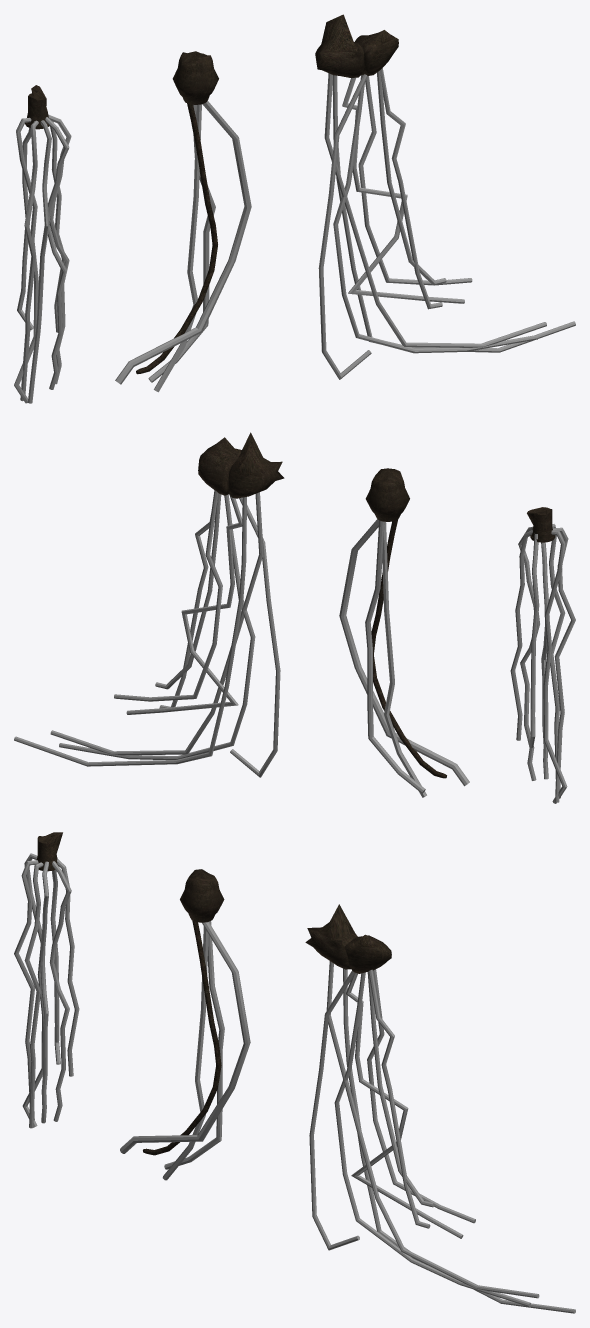
The model's file is longdan.FBX.
3 views of the same model, one above another, from view 1: azimuth 30°, elevation 25°; view 2: azimuth 150°, elevation 25°; view 3: azimuth 330°, elevation 25° (orthographic). The views are drawn at different scales.
Parts seen in each view (by area): view 1: Cylinder003, Line002, Line015, Line018, Line017, Cylinder001, Line001, Line014, Line016, Line007, Line011, Line004 (+10 smaller); view 2: Cylinder003, Line016, Line002, Line015, Line018, Line014, Line003, Cylinder001, Line017, Line004, Line019, Line005 (+10 smaller); view 3: Cylinder003, Line002, Line018, Line015, Cylinder001, Line014, Line017, Line016, Line001, Line013, Line009, Line007 (+10 smaller).
Part boxes in pixels (left/top/right/bottom): Cylinder003: left=315, top=14, right=398, bottom=77; Line002: left=115, top=101, right=251, bottom=384; Line015: left=333, top=75, right=538, bottom=353; Line018: left=324, top=73, right=546, bottom=347; Line017: left=318, top=74, right=371, bottom=379; Cylinder001: left=172, top=51, right=218, bottom=104; Line001: left=136, top=103, right=217, bottom=374; Line014: left=342, top=77, right=464, bottom=303; Line016: left=332, top=75, right=575, bottom=352; Line007: left=28, top=120, right=51, bottom=403; Line011: left=20, top=120, right=38, bottom=401; Line004: left=154, top=104, right=201, bottom=392; Cylinder003: left=198, top=432, right=284, bottom=498; Line016: left=14, top=497, right=246, bottom=766; Line002: left=339, top=519, right=469, bottom=786; Line015: left=59, top=494, right=255, bottom=759; Line018: left=50, top=492, right=263, bottom=755; Line014: left=126, top=495, right=242, bottom=714; Line003: left=365, top=520, right=425, bottom=793; Cylinder001: left=365, top=468, right=409, bottom=521; Line017: left=230, top=497, right=280, bottom=777; Line004: left=382, top=521, right=426, bottom=797; Line019: left=114, top=490, right=222, bottom=701; Line005: left=543, top=530, right=567, bottom=803; Cylinder003: left=305, top=904, right=391, bottom=973; Line002: left=120, top=922, right=250, bottom=1153; Line018: left=326, top=961, right=539, bottom=1298; Line015: left=334, top=972, right=530, bottom=1306; Cylinder001: left=180, top=869, right=224, bottom=922; Line014: left=346, top=973, right=463, bottom=1238; Line017: left=309, top=970, right=359, bottom=1250; Line016: left=343, top=968, right=575, bottom=1313; Line001: left=143, top=920, right=221, bottom=1155; Line013: left=368, top=969, right=430, bottom=1228; Line009: left=49, top=861, right=71, bottom=1121; Line007: left=24, top=862, right=43, bottom=1128.
Size of the model in its own units: 108 by 69.34 by 10.47.
Materials: 2 (1 with a texture image).
